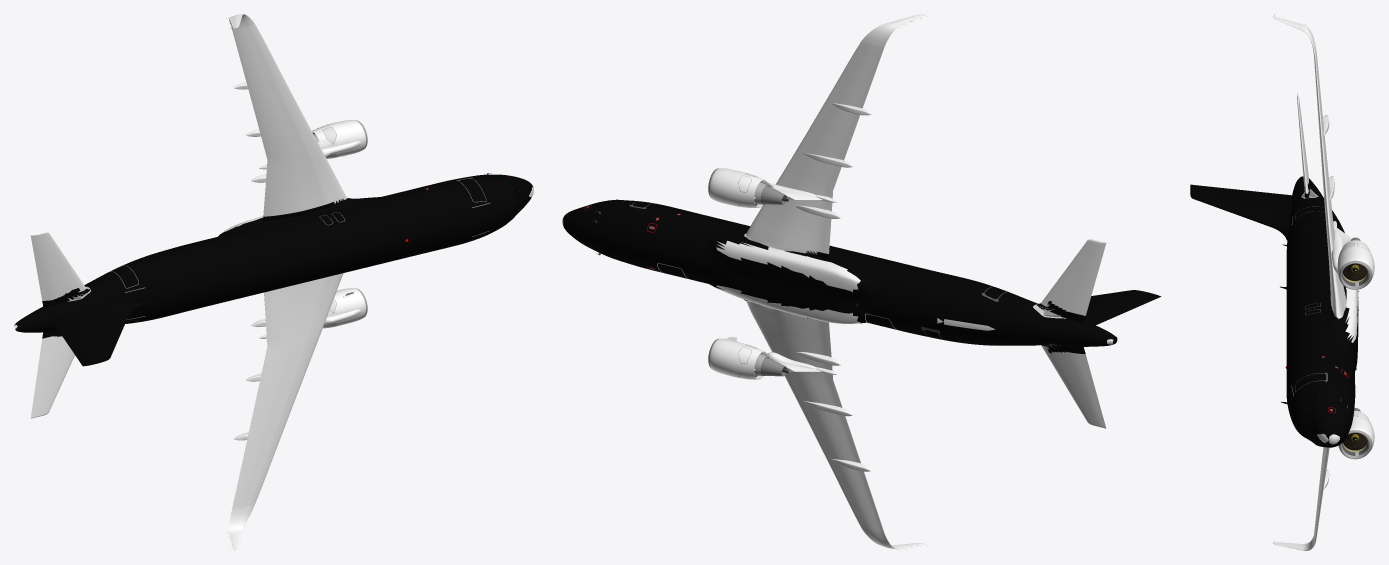
The model's file is a320neo.glb.
3 renders of one model, left to right at view 1: azimuth 30°, elevation 25°; view 2: azimuth 150°, elevation 25°; view 3: azimuth 270°, elevation 25°, orthographic.
Parts seen in each view (by area): view 1: Object_4, Object_14, Object_12, Object_106, Object_106.050, Object_123; view 2: Object_4, Object_14, Object_12, Object_106, Object_106.050; view 3: Object_4, Object_12, Object_106, Object_14, Object_123, Object_106.050, Object_6, Object_147, Object_116, Object_207, Object_139.
Boxes of the visible parts, x1,y1,x2,y2 form: Object_4: (14,14,533,550); Object_14: (30,232,90,418); Object_12: (54,302,146,366); Object_106: (312,120,365,157); Object_106.050: (323,288,365,328); Object_123: (119,187,468,275); Object_4: (562,14,1117,549); Object_14: (1037,239,1106,428); Object_12: (1039,290,1161,325); Object_106: (709,168,773,207); Object_106.050: (709,338,772,379); Object_4: (1273,16,1358,550); Object_12: (1190,184,1291,239); Object_106: (1337,240,1374,281); Object_14: (1297,93,1309,198); Object_123: (1308,207,1313,376); Object_106.050: (1338,411,1374,450); Object_6: (1305,393,1313,442); Object_147: (1331,230,1342,273); Object_116: (1343,263,1367,280); Object_207: (1343,433,1367,449); Object_139: (1295,373,1326,391).
Size of the model in its own units: 37.57 by 35.37 by 11.21.
Materials: 52 (1 with a texture image).
